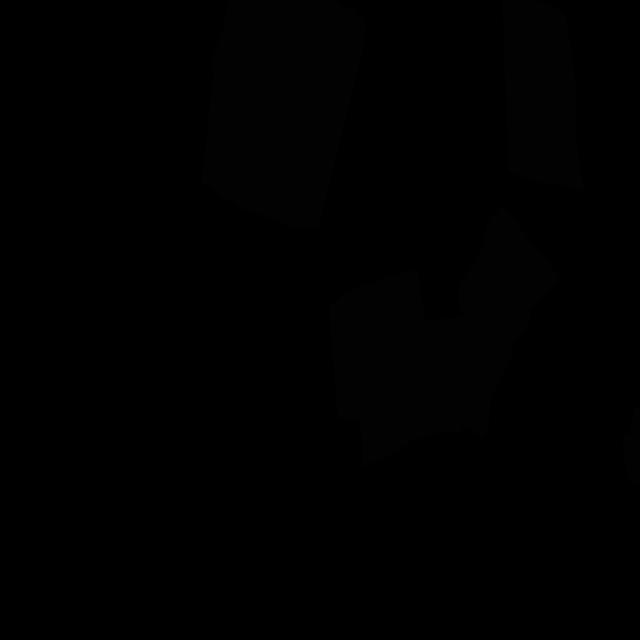cardboard: (201, 0, 365, 228), (329, 268, 484, 468), (456, 204, 560, 437), (502, 0, 586, 192), (622, 407, 640, 490)
